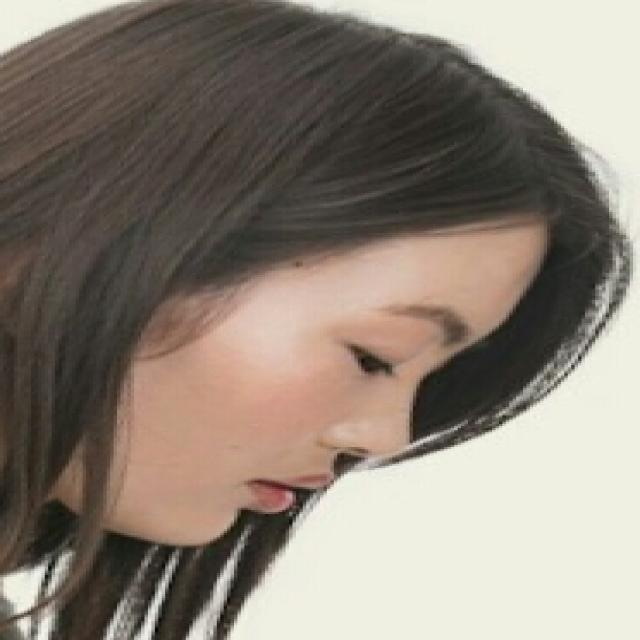front: (160, 298, 462, 562)
